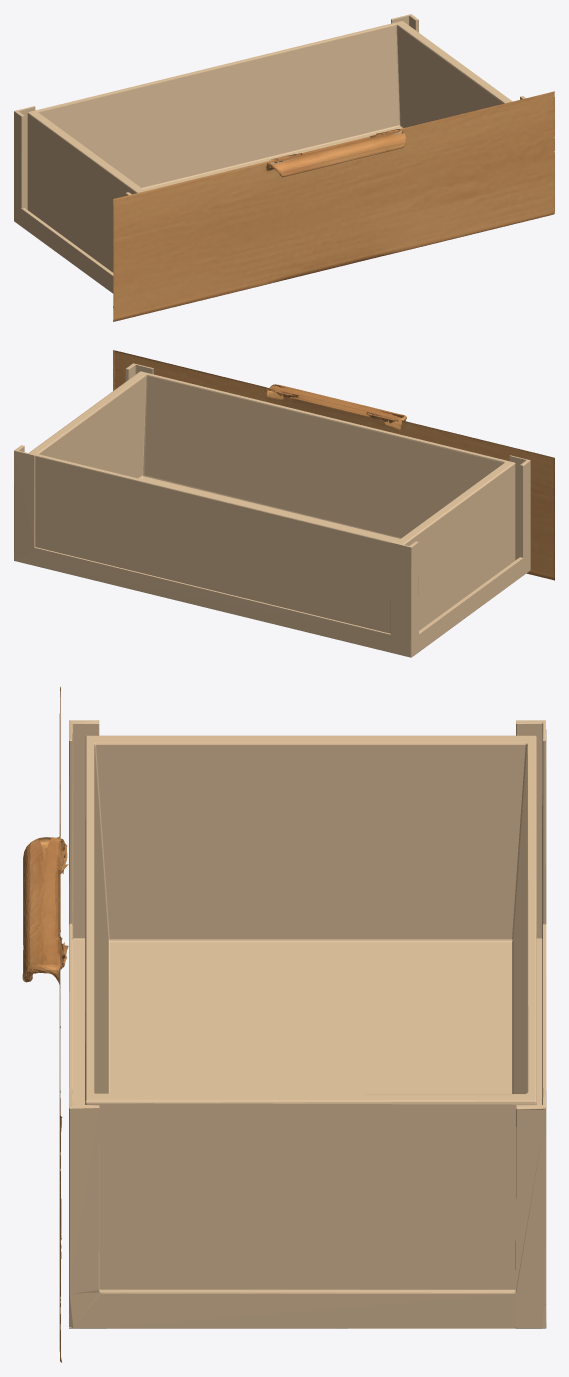
The model's file is dresser-drawer-middle.glb.
The picture shows the model from 3 angles, top to bottom: view 1: azimuth 30°, elevation 25°; view 2: azimuth 150°, elevation 25°; view 3: azimuth 270°, elevation 25°; orthographic projection. The views are drawn at different scales.
Visible parts, largest first — view 1: source_front_cap_5, prefab_drawer_body_8; view 2: prefab_drawer_body_8, source_front_cap_5; view 3: prefab_drawer_body_8, source_front_cap_5.
Part boxes in pixels (x1,y1,x2,y2): source_front_cap_5: [113, 91, 554, 321]; prefab_drawer_body_8: [14, 14, 525, 293]; prefab_drawer_body_8: [14, 363, 530, 657]; source_front_cap_5: [113, 350, 554, 580]; prefab_drawer_body_8: [69, 720, 546, 1328]; source_front_cap_5: [22, 686, 68, 1362].
Size of the model in its own units: 0.8175 by 0.2173 by 0.4197.
Materials: 2 (1 with a texture image).
